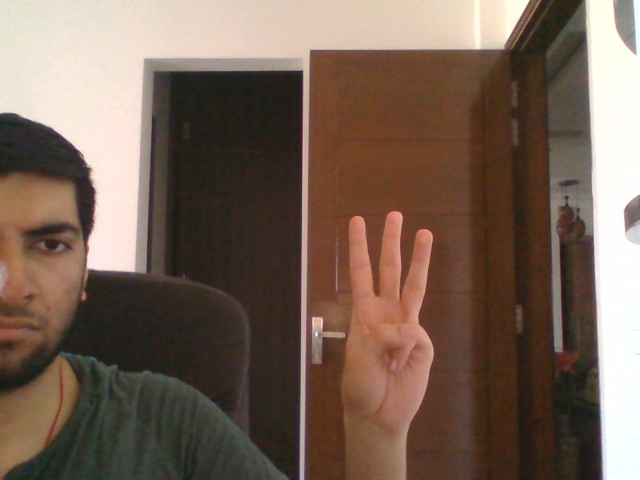LetterW: (338, 209, 437, 438)
